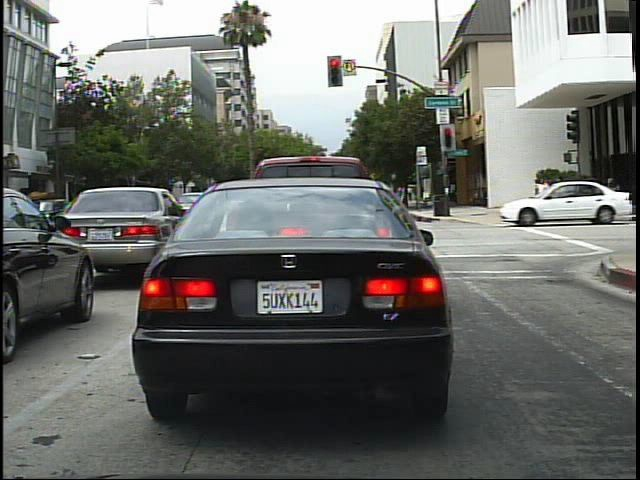person: (534, 170, 557, 223), (552, 172, 576, 215)
